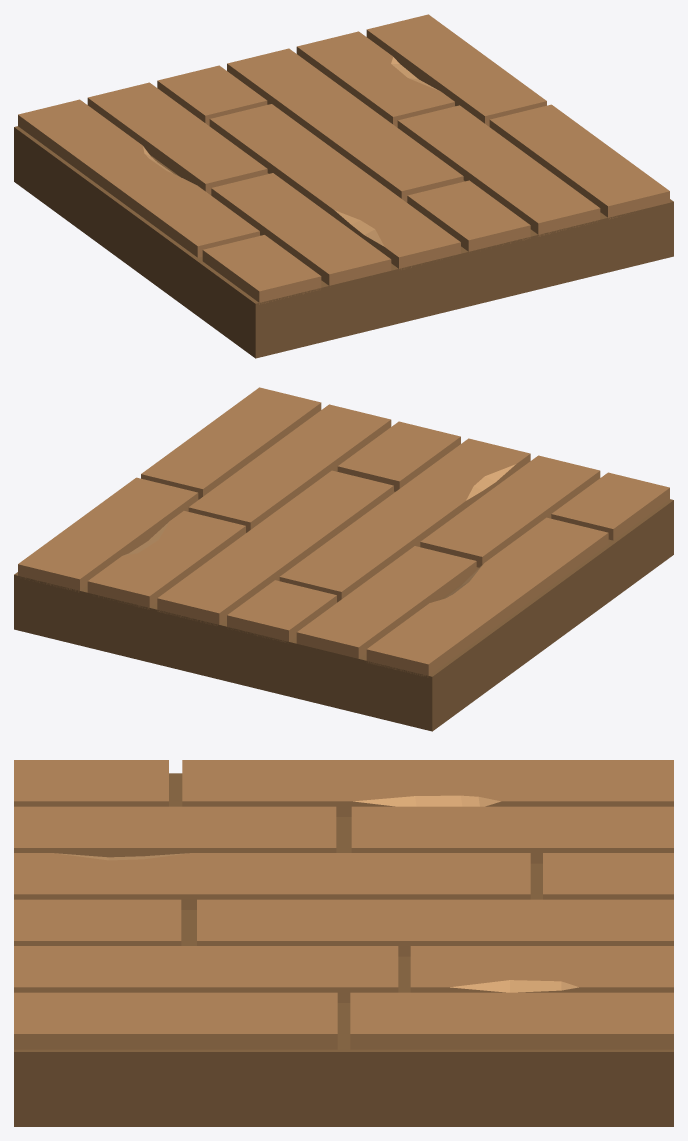
The model's file is floor-wood.glb.
3 views of the same model, one above another, from view 1: azimuth 30°, elevation 25°; view 2: azimuth 150°, elevation 25°; view 3: azimuth 270°, elevation 25° (orthographic). The views are drawn at different scales.
Parts seen in each view (by area): view 1: Floor_Wood; view 2: Floor_Wood; view 3: Floor_Wood.
Part boxes in pixels (left/top/right/bottom): Floor_Wood: left=14, top=14, right=673, bottom=358; Floor_Wood: left=14, top=387, right=673, bottom=731; Floor_Wood: left=14, top=760, right=673, bottom=1126.
Size of the model in its own units: 4 by 0.605 by 4.
